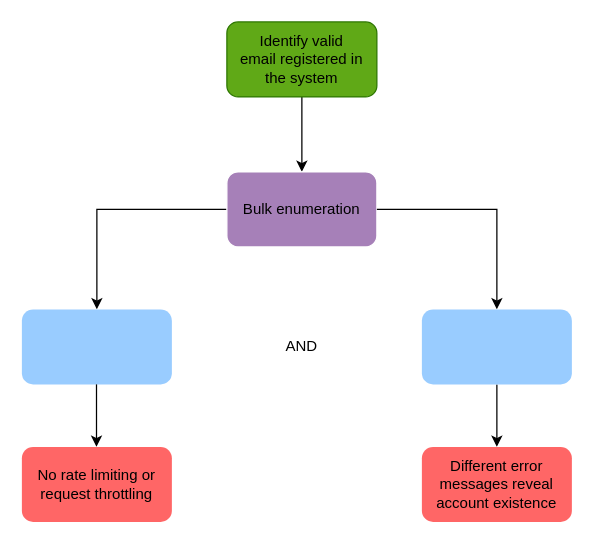
Some shapes in this 593 by 544 pixel diagram are drawn without their labels. The shapes that lost their labels are listed below. From the top down, each one's centre as x and y in pixels, then its label:
point (96, 346): Send multiple invite requests with different email addresses
point (496, 346): Analyse response differences
